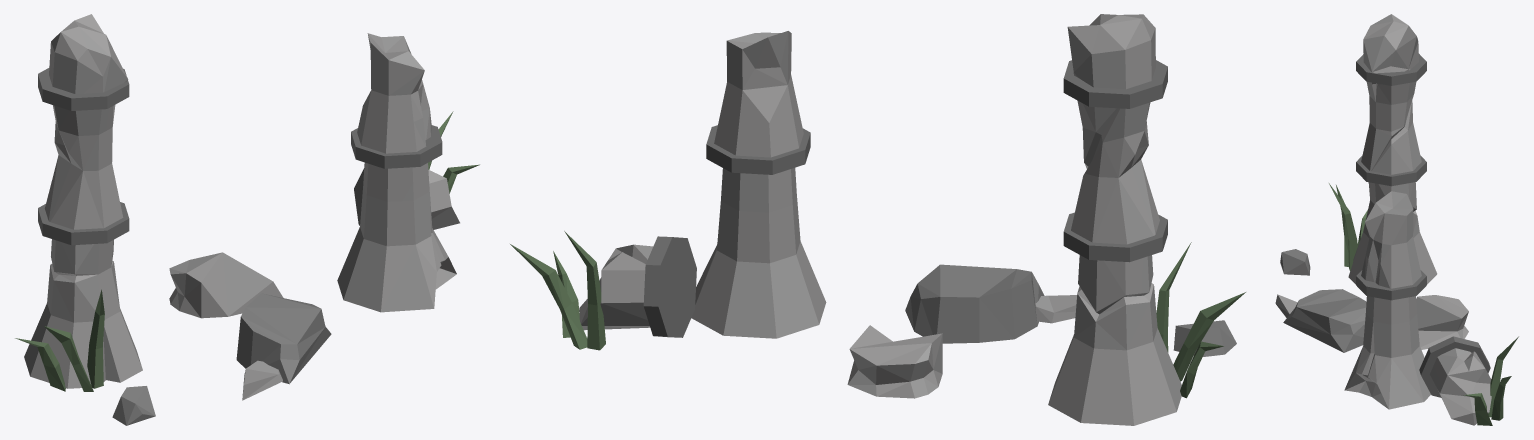
The model's file is _ruin_4.glb.
3 renders of one model, left to right at view 1: azimuth 30°, elevation 25°; view 2: azimuth 150°, elevation 25°; view 3: azimuth 270°, elevation 25°, orthographic. The views are drawn at different scales.
Parts seen in each view (by area): view 1: ruin_4; view 2: ruin_4; view 3: ruin_4.
Part boxes in pixels (x1,y1,x2,y2): ruin_4: (15,14,479,425); ruin_4: (510,14,1245,425); ruin_4: (1275,14,1518,425).
Bounding box in the file's own units: 4.29 × 2.61 × 2.28.
1 material, 1 textured.
